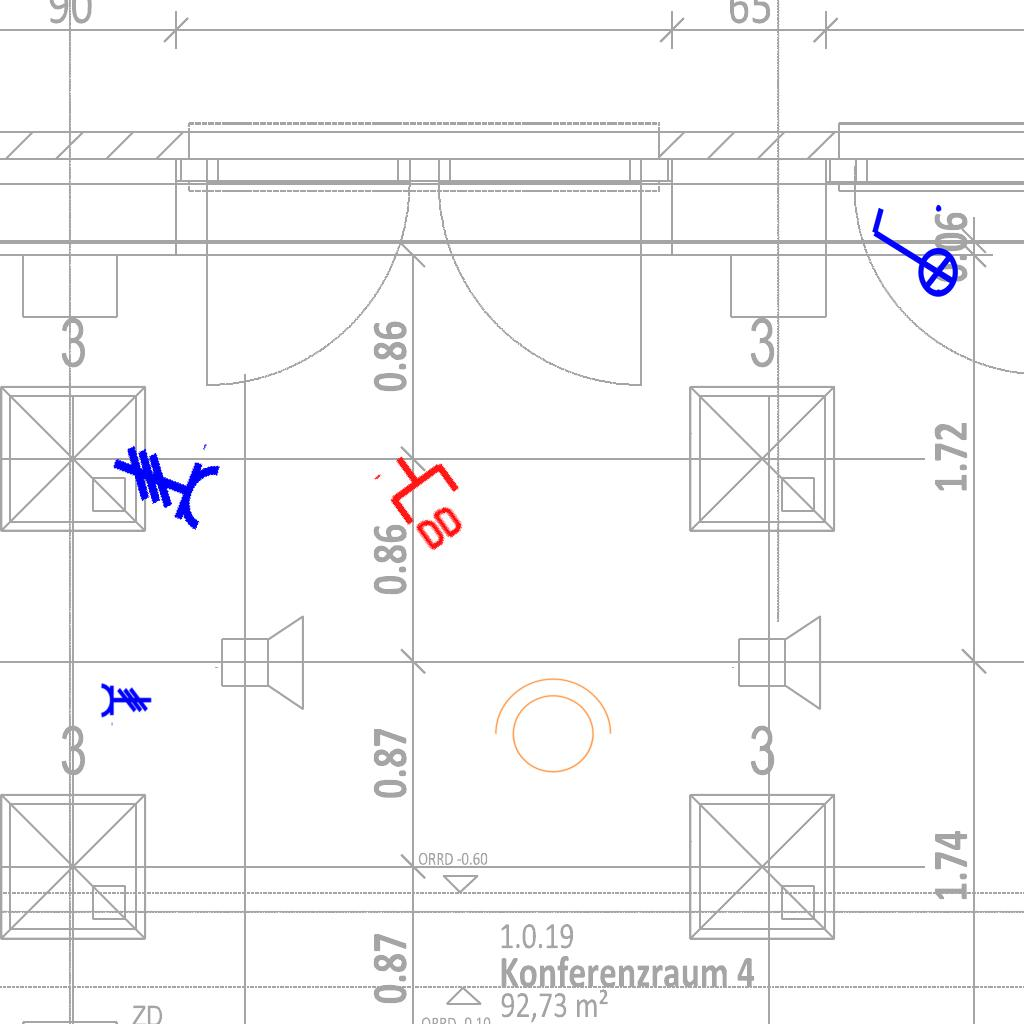Ausschalter_beleuchtet: (864, 199, 960, 311)
CEE_Drehstrom_Steckdose_16_32_A: (100, 412, 230, 534), (100, 682, 152, 727)
Datenanschluss_zweifach: (370, 434, 487, 559)
Scheinwerfer_fuer_Alarmbeleuchtung: (484, 673, 616, 785)
